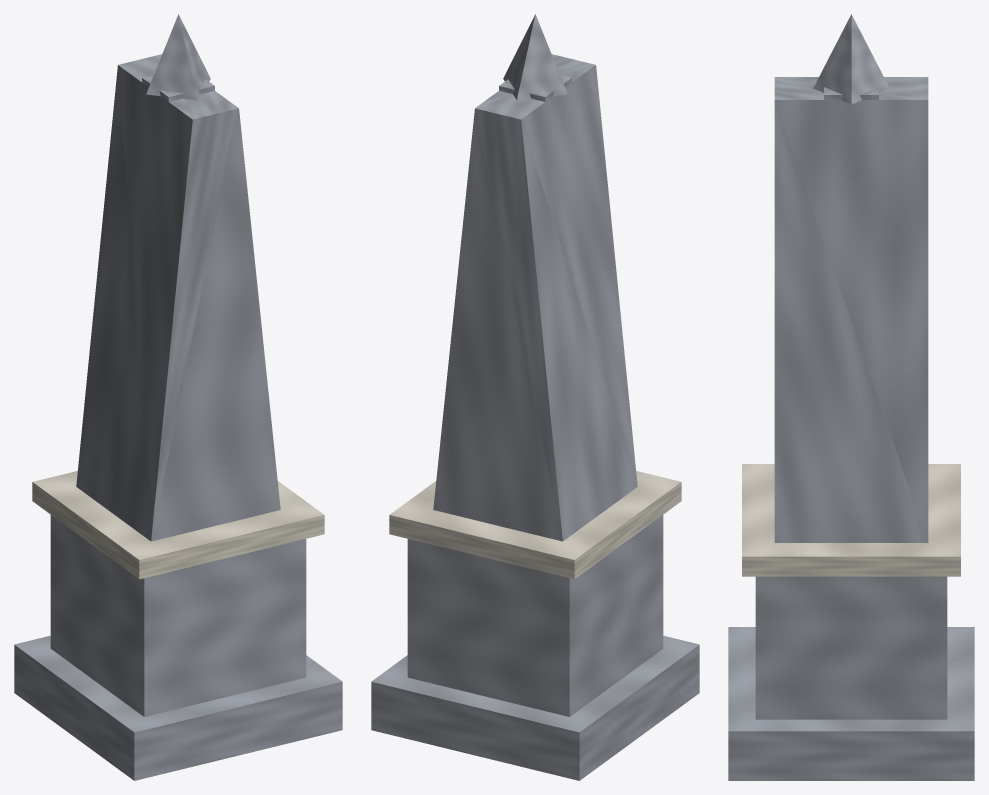
3 views of the same model, side by side, from view 1: azimuth 30°, elevation 25°; view 2: azimuth 150°, elevation 25°; view 3: azimuth 270°, elevation 25° (orthographic). The views are drawn at different scales.
Visible parts, largest first — view 1: headstone-obelisk; view 2: headstone-obelisk; view 3: headstone-obelisk.
Boxes of the visible parts, x1=… form: headstone-obelisk: x1=14, y1=14, x2=342, y2=780; headstone-obelisk: x1=371, y1=14, x2=699, y2=780; headstone-obelisk: x1=728, y1=14, x2=974, y2=780.
Size of the model in its own units: 0.9001 by 2.88 by 0.9001.
2 materials, 2 textured.
